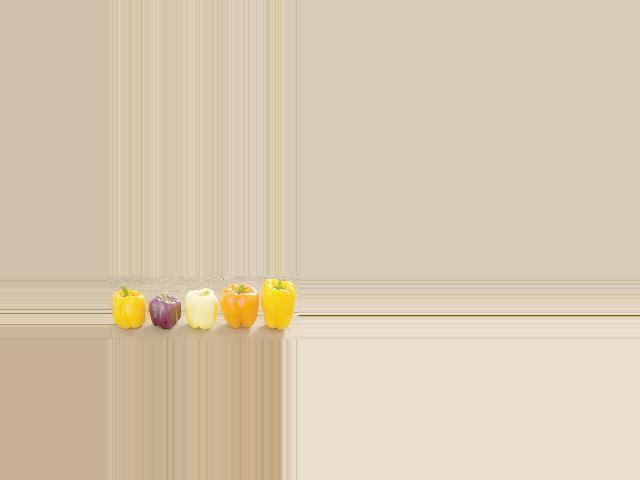bell_pepper: (109, 281, 142, 337)
